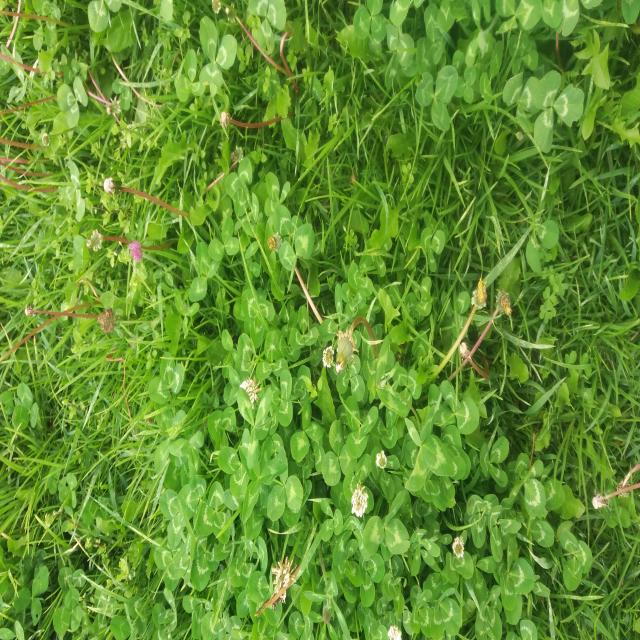Four Leaf Clover: (239, 436, 286, 522)
